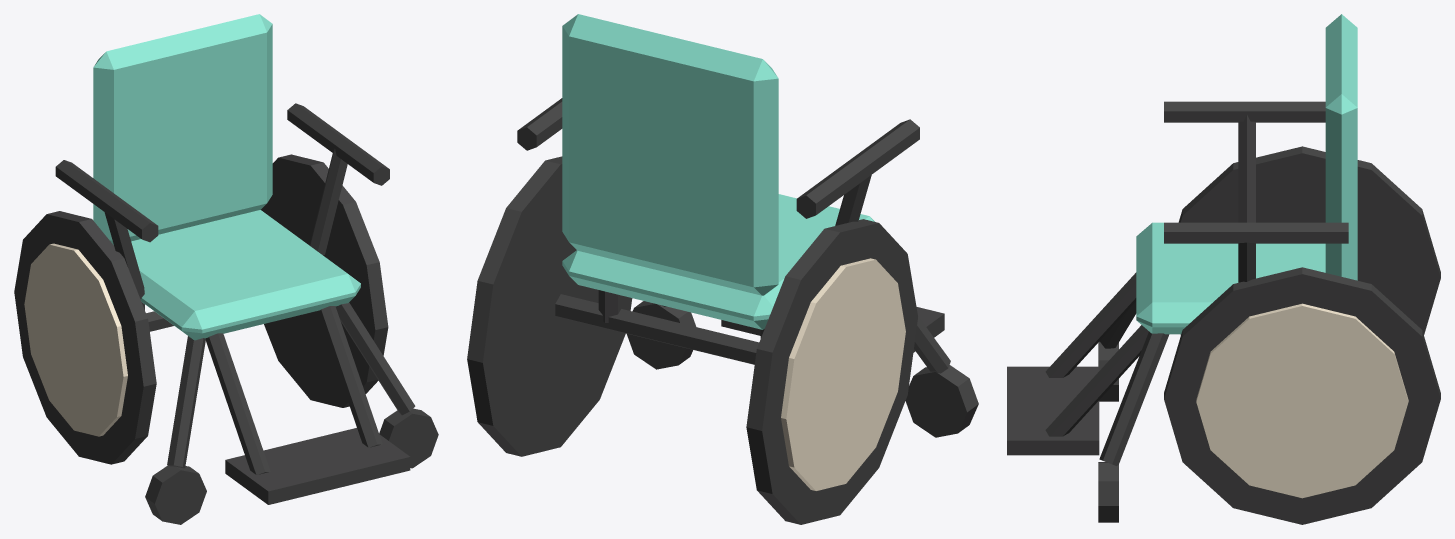
3 views of the same model, side by side, from view 1: azimuth 30°, elevation 25°; view 2: azimuth 150°, elevation 25°; view 3: azimuth 270°, elevation 25° (orthographic). The views are drawn at different scales.
Visible parts, largest first — view 1: Backrest, Seat, Push rim, Rear wheel.001, Rear wheel, Footplate, Footplate support, Footplate support.001, Wheel, Armrest, Armrest.001, Caster fork (+4 smaller); view 2: Backrest, Rear wheel.001, Push rim, Rear wheel, Seat, Rear axle, Wheel, Armrest, Wheel.001, Armrest.001, Caster fork, Arm support (+2 smaller); view 3: Push rim.001, Rear wheel.001, Rear wheel, Seat, Backrest, Footplate, Armrest.001, Armrest, Caster fork.001, Footplate support.001, Footplate support, Arm support (+4 smaller).
Boxes of the visible parts, box(x1,y1,x2,y2) form: Backrest: box(93, 14, 272, 244); Seat: box(131, 210, 360, 340); Push rim: box(24, 243, 127, 436); Rear wheel.001: box(261, 154, 388, 407); Rear wheel: box(14, 211, 156, 464); Footplate: box(225, 428, 410, 504); Footplate support: box(206, 333, 270, 474); Footplate support.001: box(317, 306, 382, 447); Wheel: box(145, 465, 206, 524); Armrest: box(55, 160, 158, 242); Armrest.001: box(287, 103, 389, 185); Caster fork: box(167, 336, 205, 468); Backrest: box(562, 14, 778, 295); Rear wheel.001: box(467, 156, 632, 456); Push rim: box(781, 258, 905, 490); Rear wheel: box(746, 219, 917, 524); Seat: box(562, 194, 874, 329); Rear axle: box(555, 294, 759, 364); Wheel: box(905, 365, 978, 437); Armrest: box(796, 119, 919, 218); Wheel.001: box(627, 301, 696, 369); Armrest.001: box(517, 98, 562, 150); Caster fork: box(914, 316, 950, 373); Arm support: box(835, 175, 871, 225); Push rim.001: box(1196, 303, 1408, 498); Rear wheel.001: box(1164, 267, 1440, 524); Rear wheel: box(1178, 146, 1440, 335); Seat: box(1136, 222, 1325, 334); Backrest: box(1325, 14, 1357, 280); Footplate: box(1007, 366, 1099, 455); Armrest.001: box(1164, 222, 1348, 243); Armrest: box(1164, 101, 1325, 122); Caster fork.001: box(1099, 331, 1169, 465); Footplate support.001: box(1045, 325, 1148, 436); Footplate support: box(1045, 272, 1136, 377); Arm support: box(1238, 115, 1255, 222).
Size of the model in its own units: 76 by 97.37 by 94.
